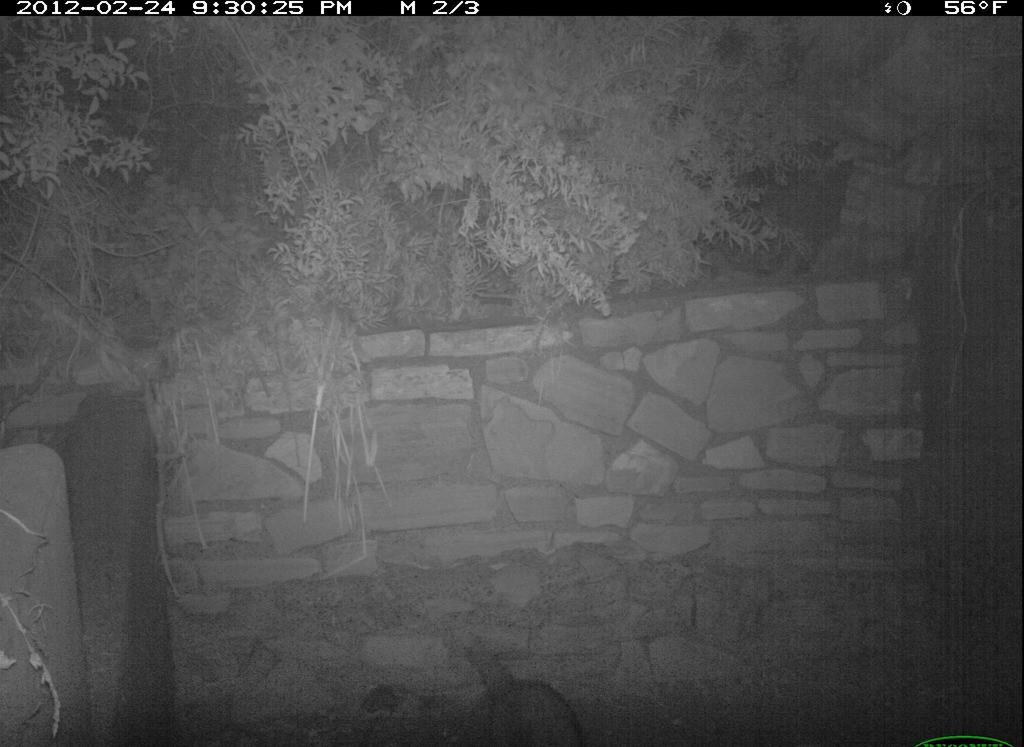raccoon: (461, 629, 585, 747)
